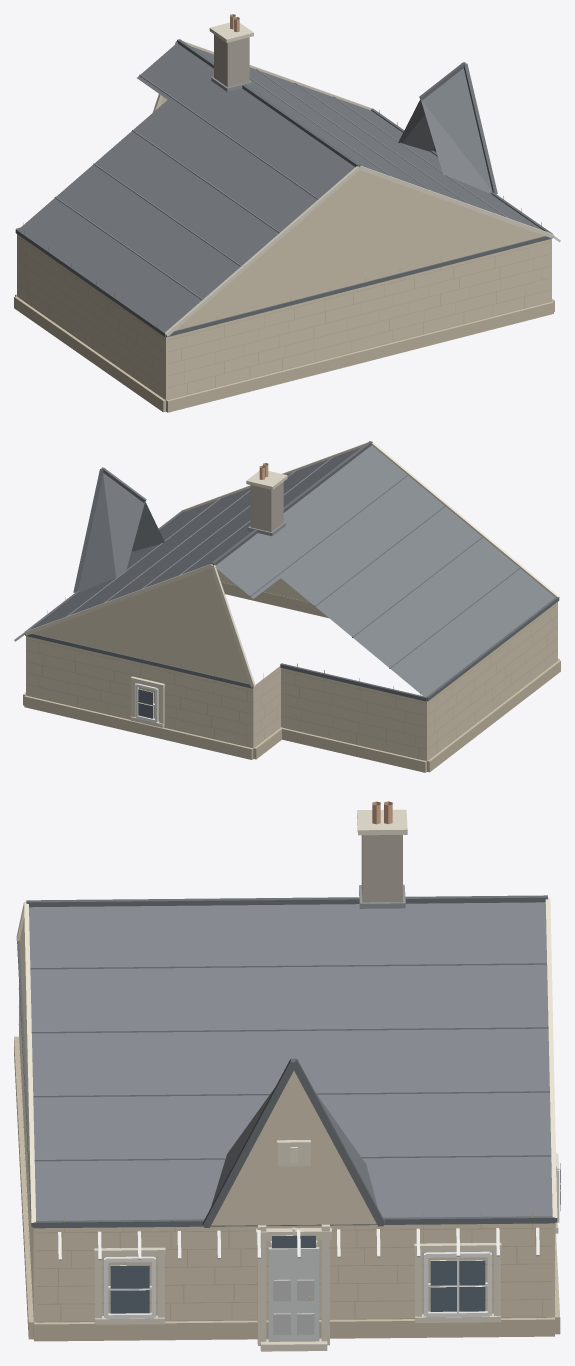
The picture shows the model from 3 angles, top to bottom: view 1: azimuth 30°, elevation 25°; view 2: azimuth 150°, elevation 25°; view 3: azimuth 270°, elevation 25°; orthographic projection. The views are drawn at different scales.
Visible parts, largest first — view 1: slate, ss, ss_dk, slate_dk, ss_joint, ss_lt, slate_lt, chim_stone; view 2: slate, ss, ss_dk, slate_dk, ss_joint, ss_lt, slate_lt, chim_stone, frame; view 3: slate, ss, ss_lt, ss_dk, slate_dk, slate_lt, frame, ss_joint, door_cad, chim_stone, door_cad_p, window_glass_001 (+5 smaller).
Boxes of the visible parts, bbox=[...] form: slate: bbox=[19, 43, 542, 331]; ss: bbox=[17, 97, 551, 399]; ss_dk: bbox=[14, 294, 554, 412]; slate_dk: bbox=[15, 39, 553, 337]; ss_joint: bbox=[17, 110, 550, 399]; ss_lt: bbox=[152, 22, 553, 336]; slate_lt: bbox=[54, 69, 508, 299]; chim_stone: bbox=[214, 34, 249, 87]; slate: bbox=[33, 445, 555, 696]; ss: bbox=[26, 568, 557, 760]; ss_dk: bbox=[23, 582, 560, 772]; slate_dk: bbox=[24, 441, 559, 701]; ss_joint: bbox=[27, 597, 557, 760]; ss_lt: bbox=[24, 442, 559, 727]; slate_lt: bbox=[67, 457, 520, 668]; chim_stone: bbox=[250, 482, 283, 531]; frame: bbox=[14, 632, 158, 722]; slate: bbox=[29, 902, 552, 1220]; ss: bbox=[19, 919, 554, 1322]; ss_lt: bbox=[16, 809, 558, 1351]; ss_dk: bbox=[14, 1036, 560, 1341]; slate_dk: bbox=[17, 895, 556, 1228]; slate_lt: bbox=[30, 962, 551, 1161]; frame: bbox=[58, 1153, 559, 1318]; ss_joint: bbox=[18, 989, 555, 1322]; door_cad: bbox=[268, 1247, 319, 1341]; chim_stone: bbox=[361, 835, 402, 902]; door_cad_p: bbox=[273, 1279, 314, 1334]; window_glass_001: bbox=[110, 1289, 149, 1313].
Bounding box in the file's own units: 15.37 × 9.35 × 11.67.
